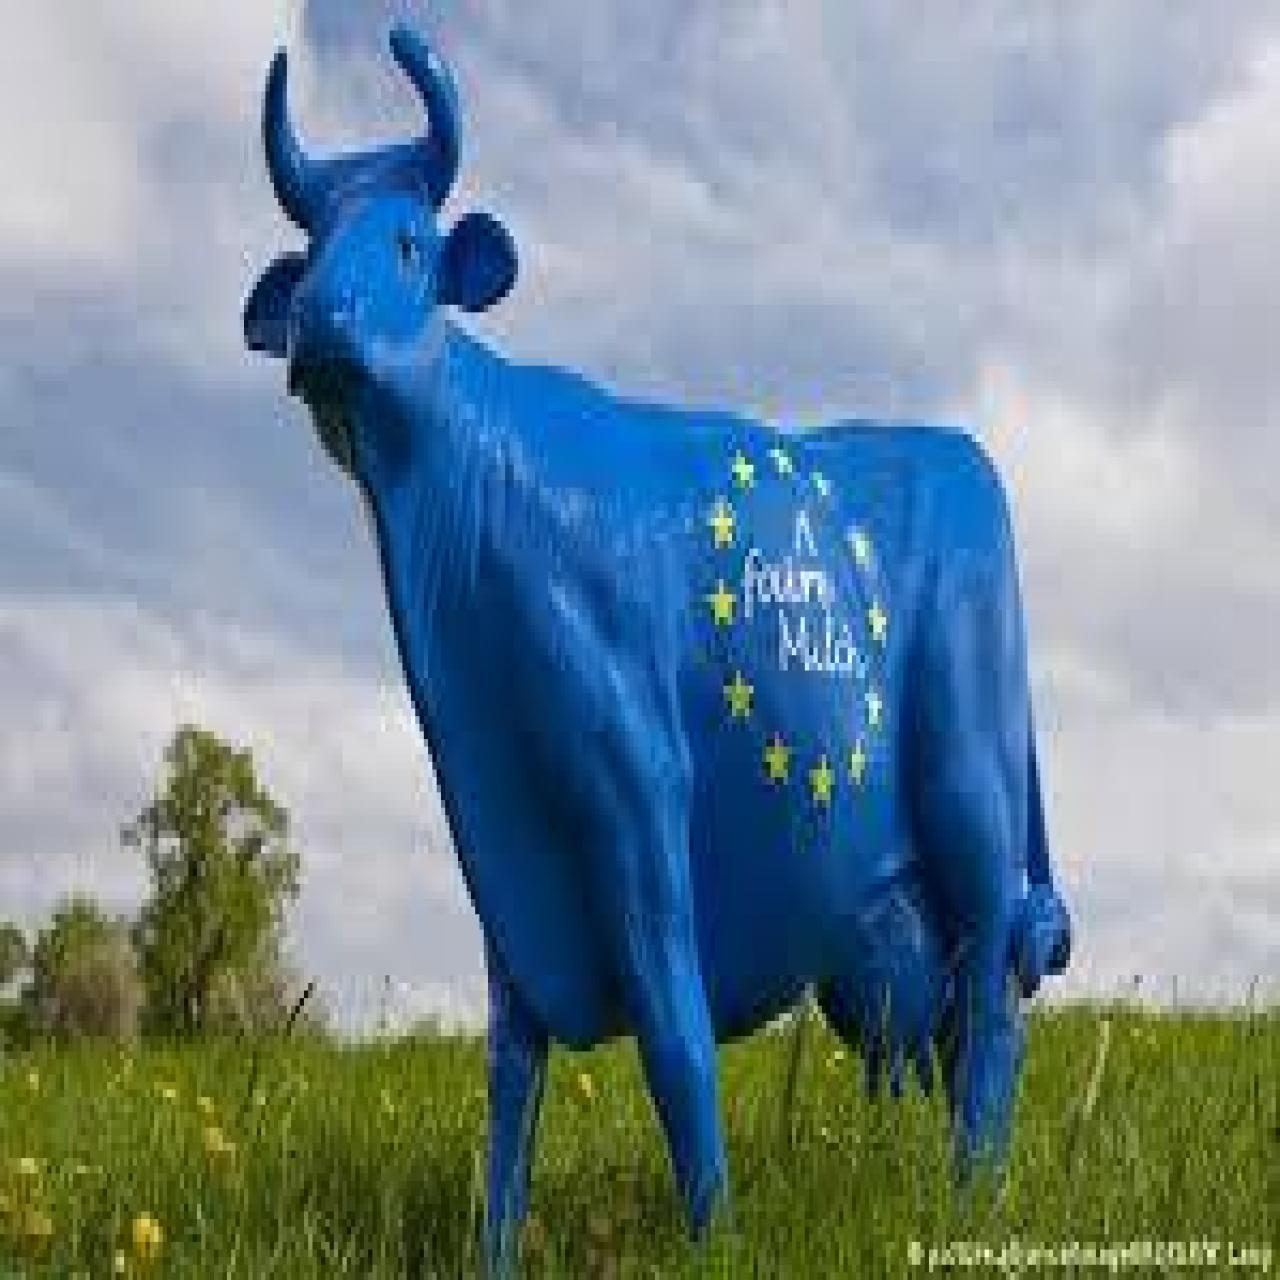cow: (244, 195, 1027, 1238)
